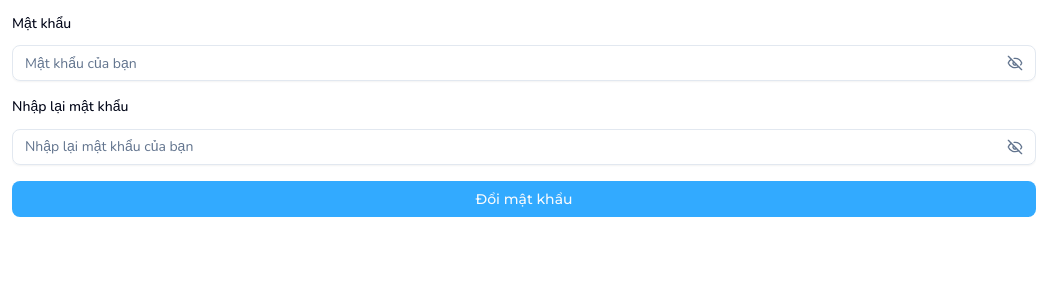
Test: FormChangePassword › shows validation errors when submitting empty form
Click the button "Đổi mật khẩu": (524, 198) 12,180 -> 1036,216
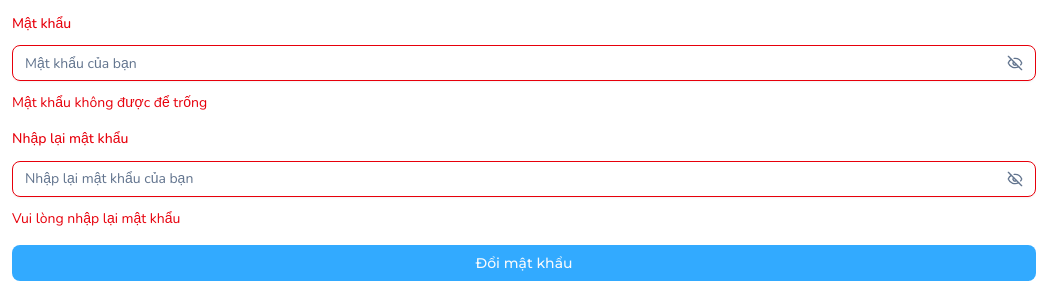
expect the text "Mật khẩu không được để trống" is shown: met, box 12,93 -> 207,112
expect the text "Vui lòng nhập lại mật khẩu" is shown: met, box 12,208 -> 180,228
